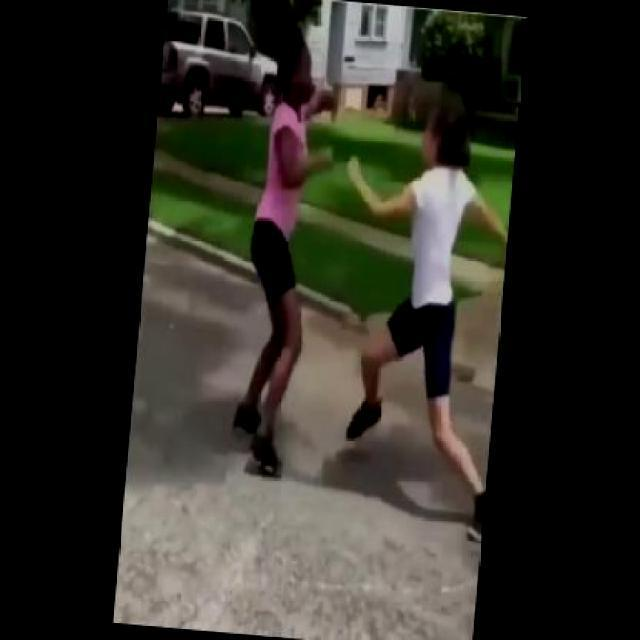fight: (227, 21, 524, 536)
